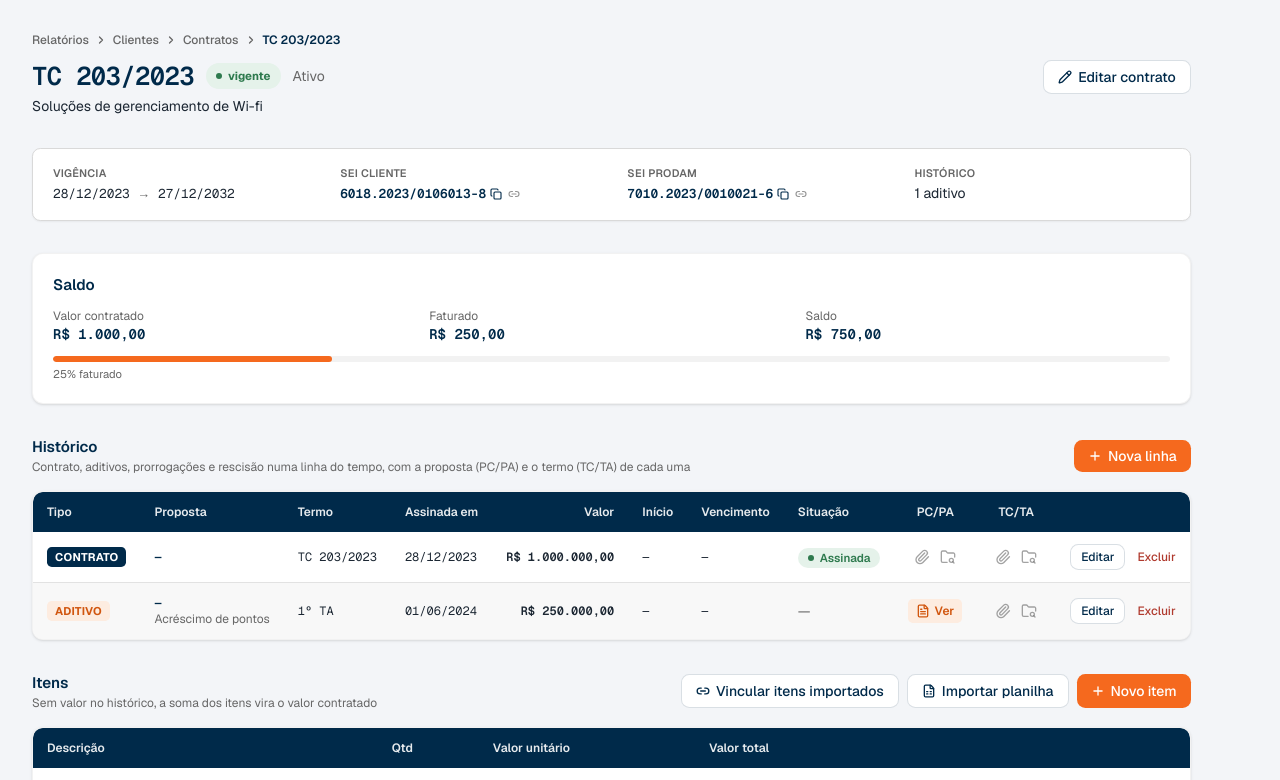
Test: ContratoDetalhePage › adiciona uma linha ao histórico
Click the button "Nova linha".
click(1132, 456)  # box x1=1074 y1=440 x2=1191 y2=472
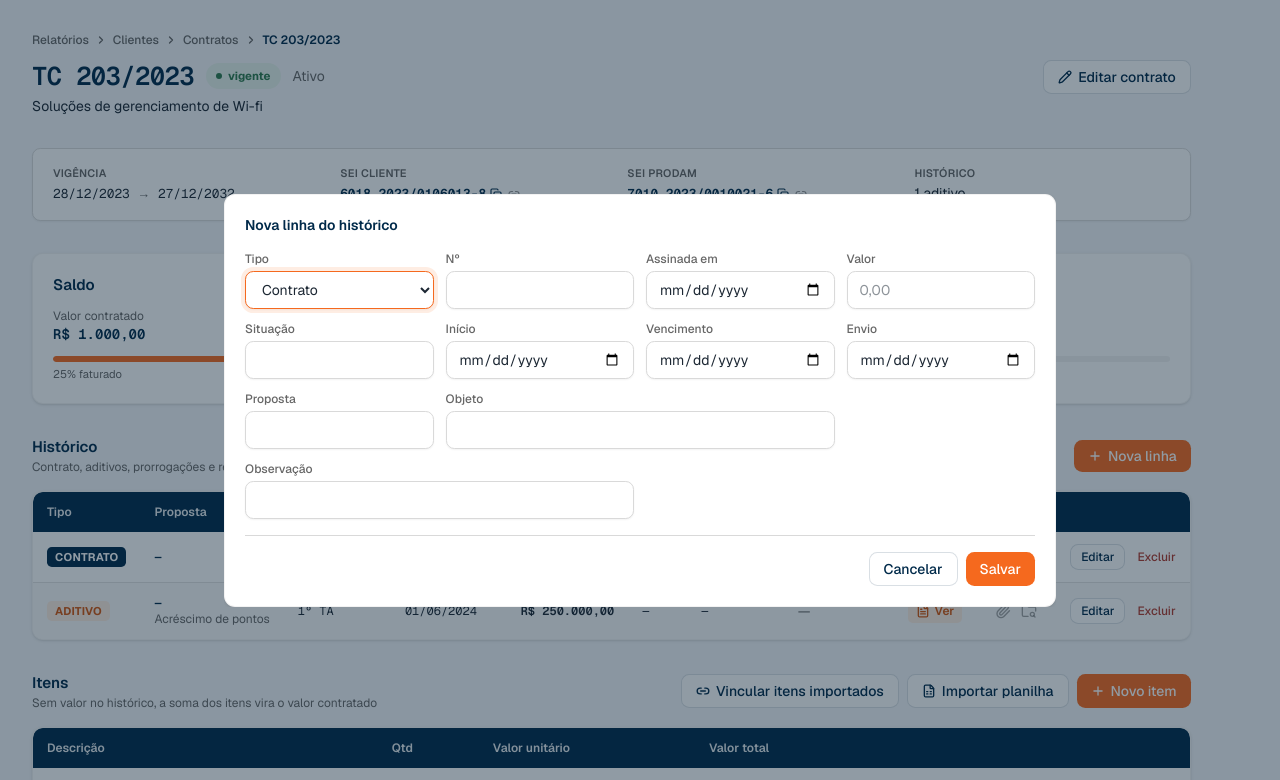
Select "Prorrogação" in the dropdown labelled "Tipo" at {"x": 339, "y": 290}, box x1=245 y1=270 x2=434 y2=308
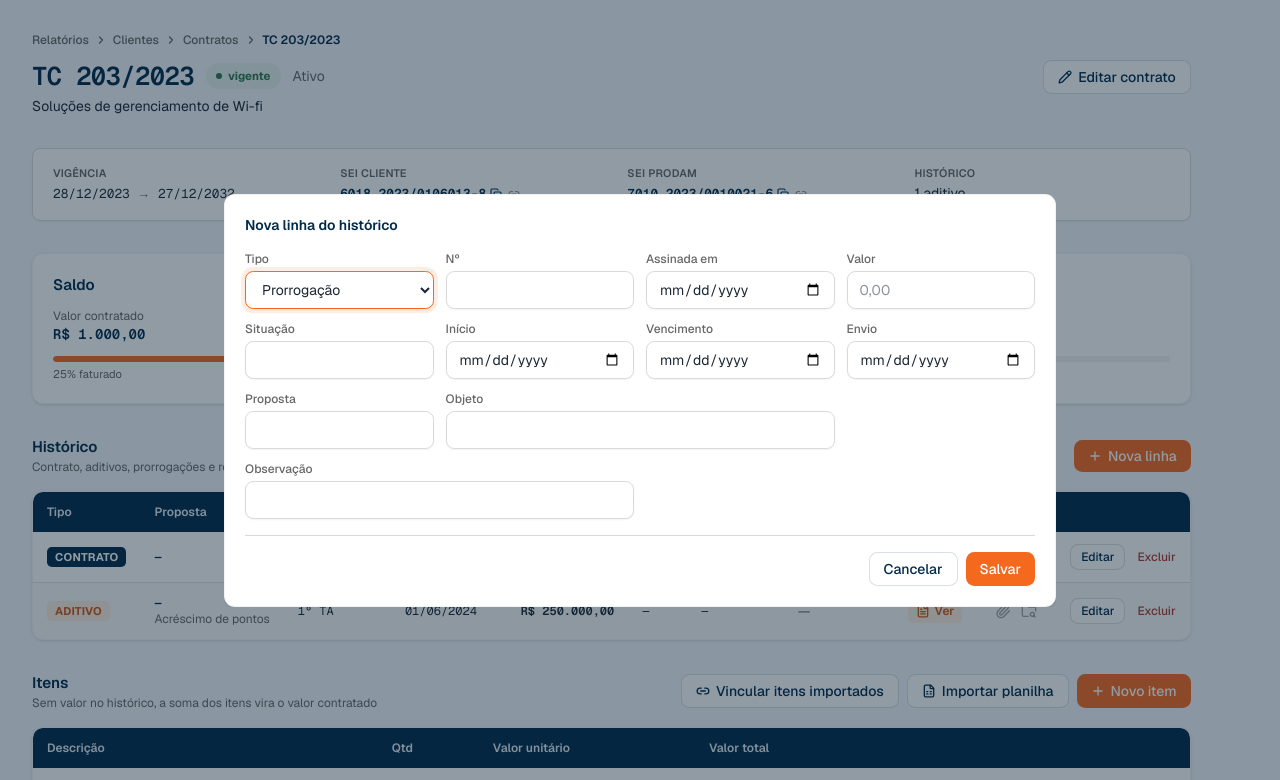
Type "2º TA" into the field labelled "Nº".
click(540, 290); type("2º TA")  # box x1=446 y1=270 x2=634 y2=308
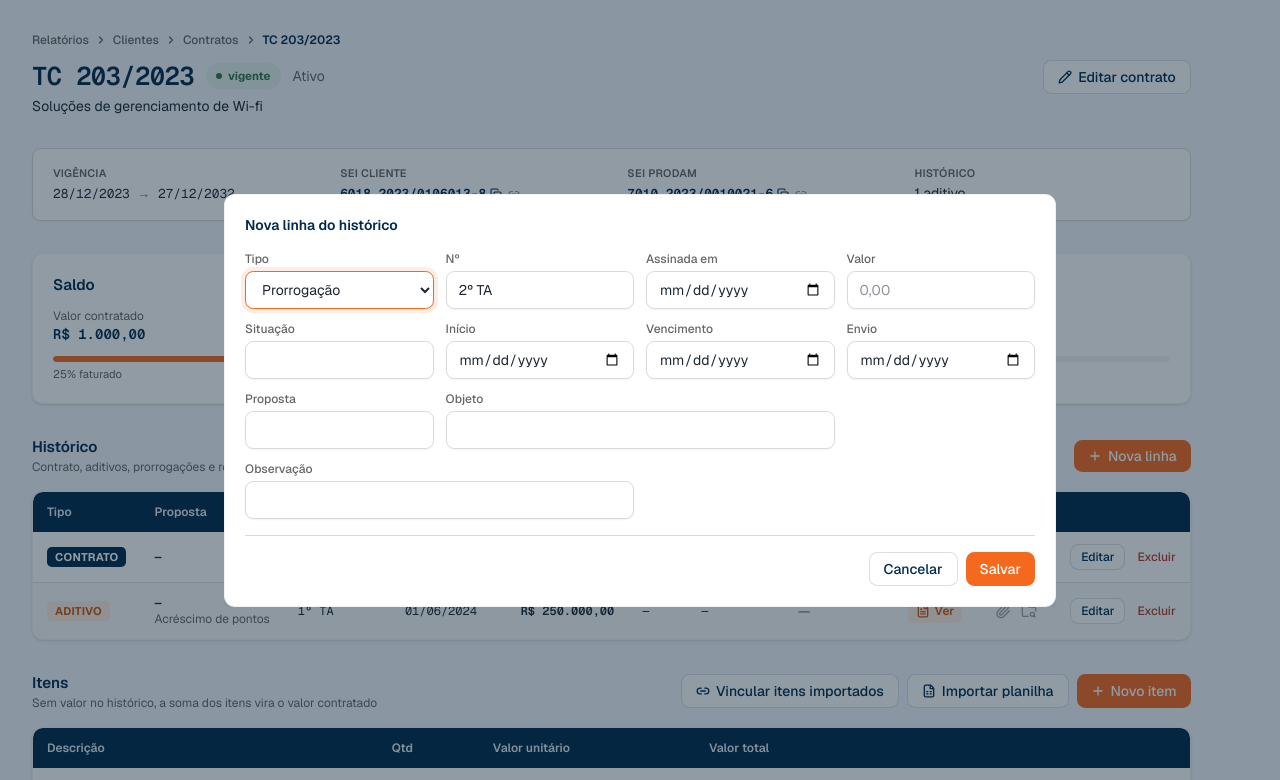
Click the button "Salvar".
click(1000, 568)  # box x1=966 y1=552 x2=1035 y2=586
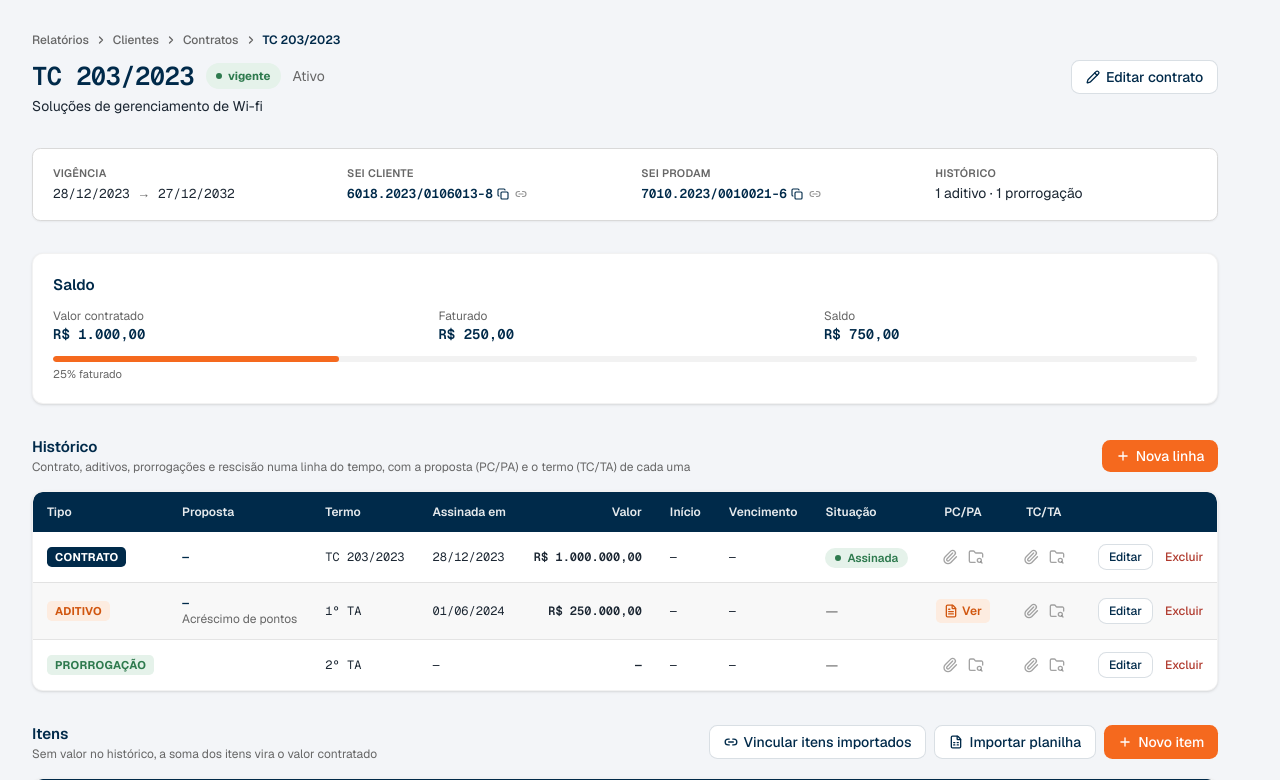
Expected: the text "2º TA" is shown, x1=311 y1=640 x2=418 y2=690
